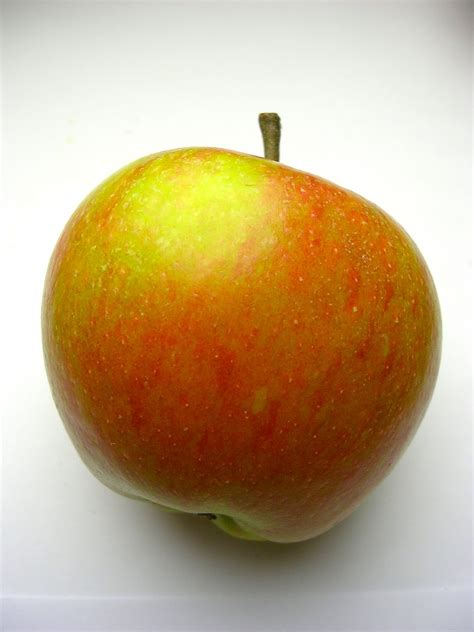apple: (38, 108, 445, 548)
